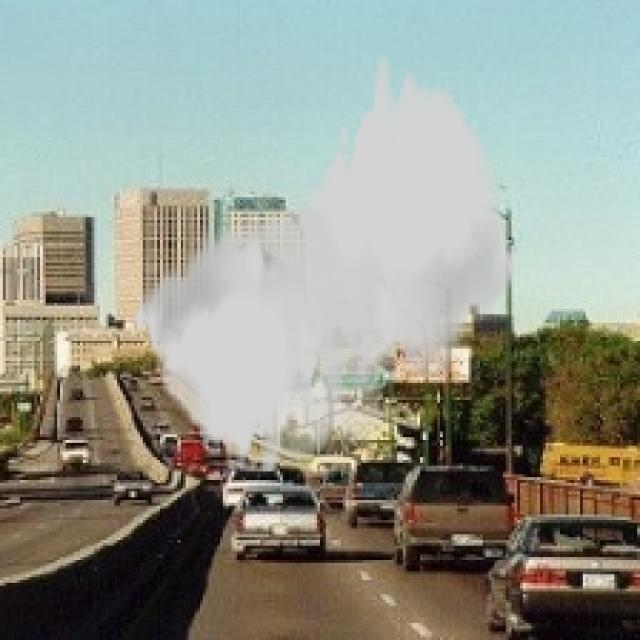smoke: (132, 57, 517, 474)
